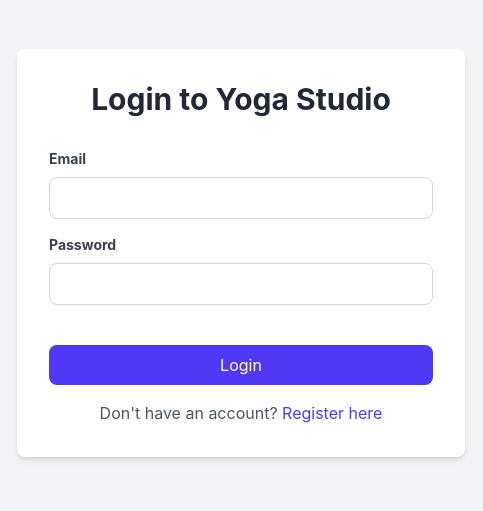
Scenario: Login (integration) › displays the "Login failed" fallback when the error is not axios
Step 1. Type "victor@yoga.com" into the field → (241, 198), box [49,177,433,219]
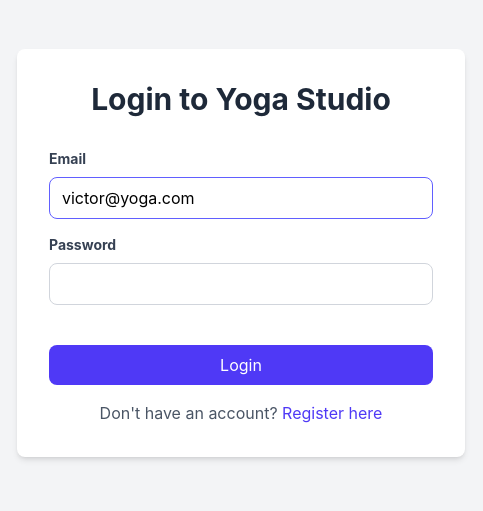
Step 2. Type "Azerty#0" into the password field → (241, 284), box [49,263,433,305]
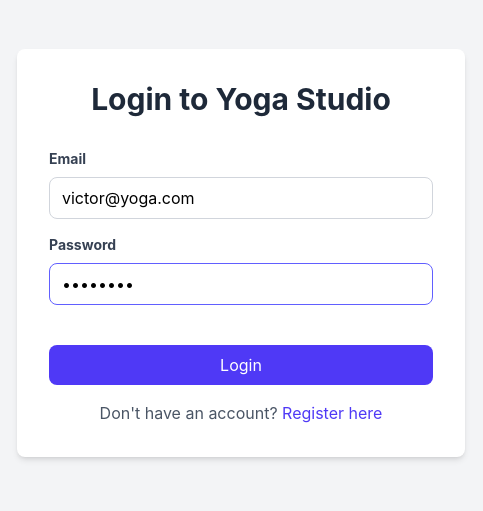
Step 3. Click the button "Login" → (241, 365), box [49,345,433,385]
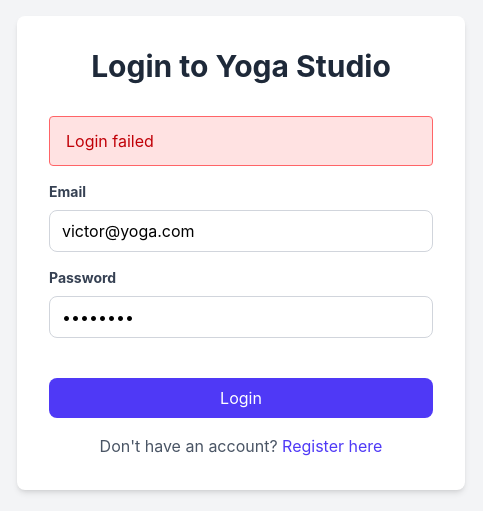
expect the text "Login failed" is shown: met, box [49,116,433,166]
